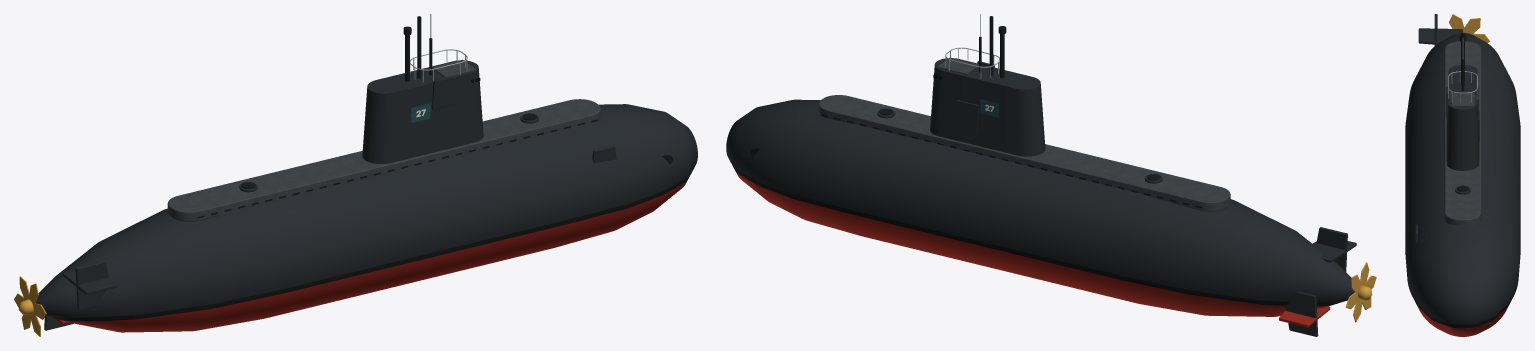
File: EnemySubmarine.glb
3 views of the same model, side by side, from view 1: azimuth 30°, elevation 25°; view 2: azimuth 150°, elevation 25°; view 3: azimuth 270°, elevation 25° (orthographic). The views are drawn at different scales.
Visible parts, largest first — view 1: EnemySubmarine_Body, EnemySubmarine_Propeller; view 2: EnemySubmarine_Body, EnemySubmarine_Propeller; view 3: EnemySubmarine_Body, EnemySubmarine_Propeller.
Part boxes in pixels (box(x1,y1,x2,y2)): EnemySubmarine_Body: box(36, 14, 697, 332); EnemySubmarine_Propeller: box(14, 276, 46, 336); EnemySubmarine_Body: box(726, 14, 1356, 336); EnemySubmarine_Propeller: box(1345, 262, 1376, 322); EnemySubmarine_Body: box(1405, 14, 1520, 336); EnemySubmarine_Propeller: box(1449, 14, 1490, 42).
Bounding box in the file's own units: 34.85 × 12.6 × 6.
8 materials, 2 textured.
